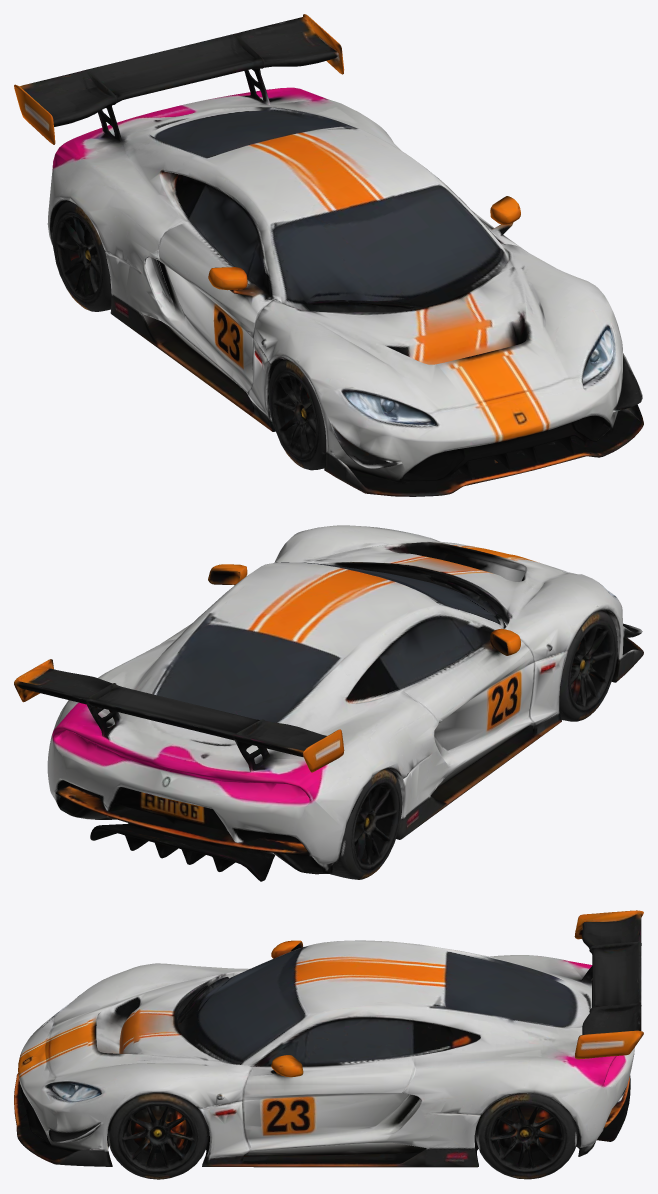
File: car.glb
3 views of the same model, one above another, from view 1: azimuth 30°, elevation 25°; view 2: azimuth 150°, elevation 25°; view 3: azimuth 270°, elevation 25° (orthographic). The views are drawn at different scales.
Parts seen in each view (by area): view 1: node_0; view 2: node_0; view 3: node_0.
Part boxes in pixels (x1,y1,x2,y2): node_0: [14, 14, 643, 496]; node_0: [14, 525, 643, 881]; node_0: [14, 910, 643, 1179].
Size of the model in its own units: 0.5075 by 0.2833 by 1.06.
Materials: 1 (1 with a texture image).
